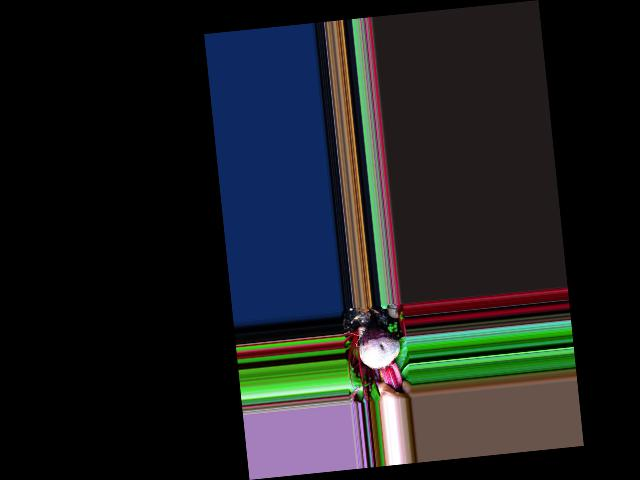beet: (354, 303, 404, 396)
